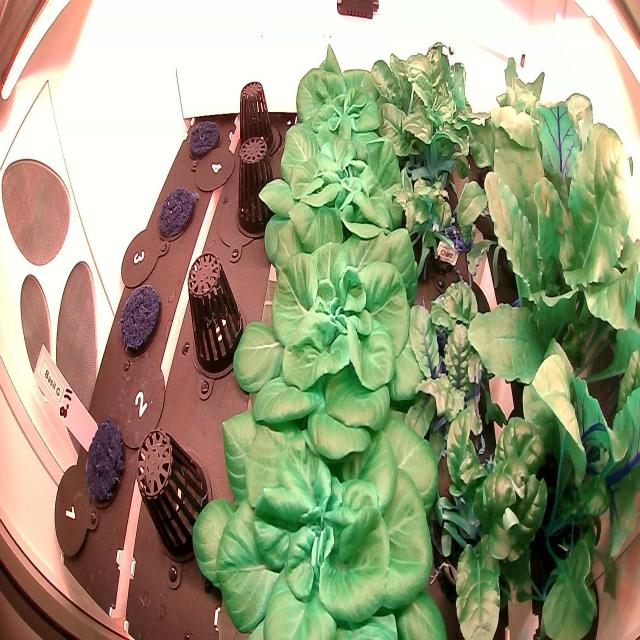empty_pod: (134, 419, 216, 571), (185, 245, 255, 391), (224, 128, 290, 246), (229, 76, 289, 173)
pod: (76, 414, 132, 517), (112, 276, 164, 367), (150, 167, 200, 256), (183, 101, 223, 167)
young: (186, 367, 466, 640), (224, 213, 447, 466), (254, 93, 421, 264), (282, 27, 402, 169)
